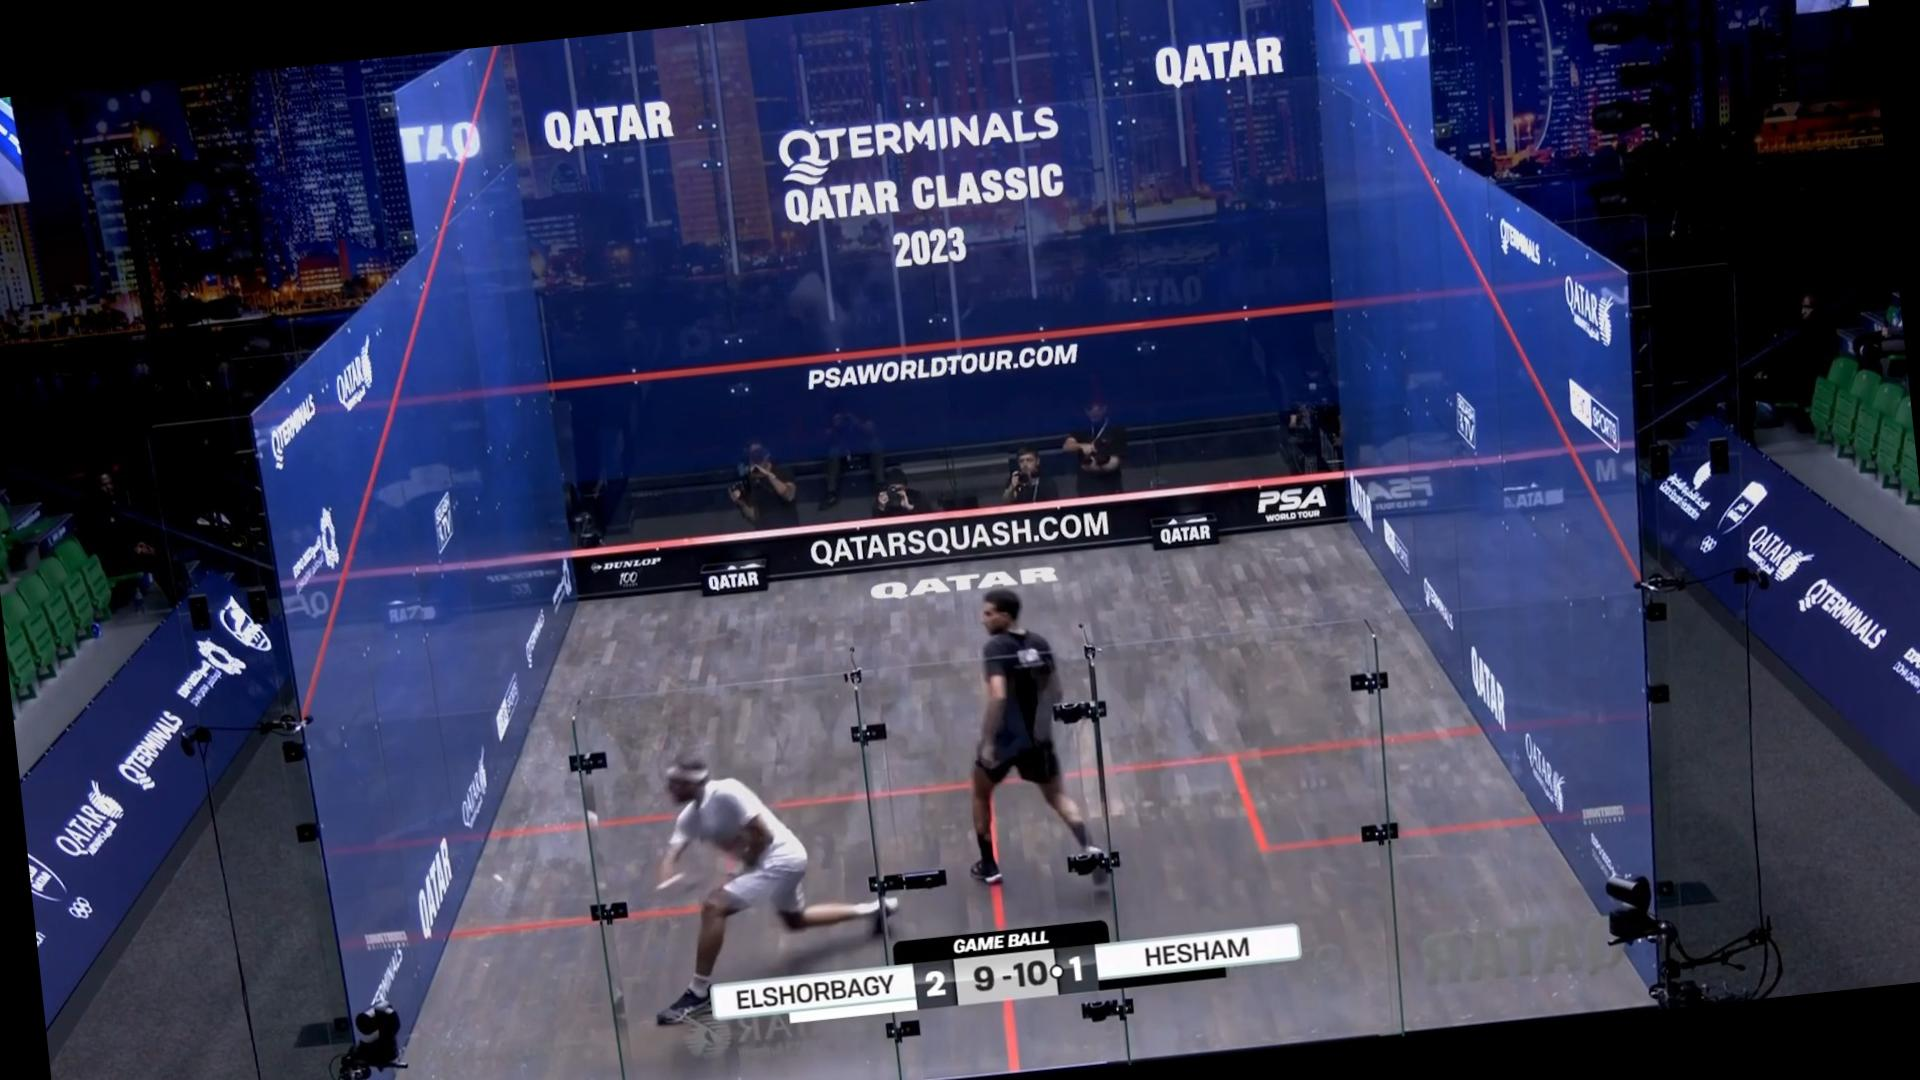Squash-Ball: (483, 861, 516, 895)
